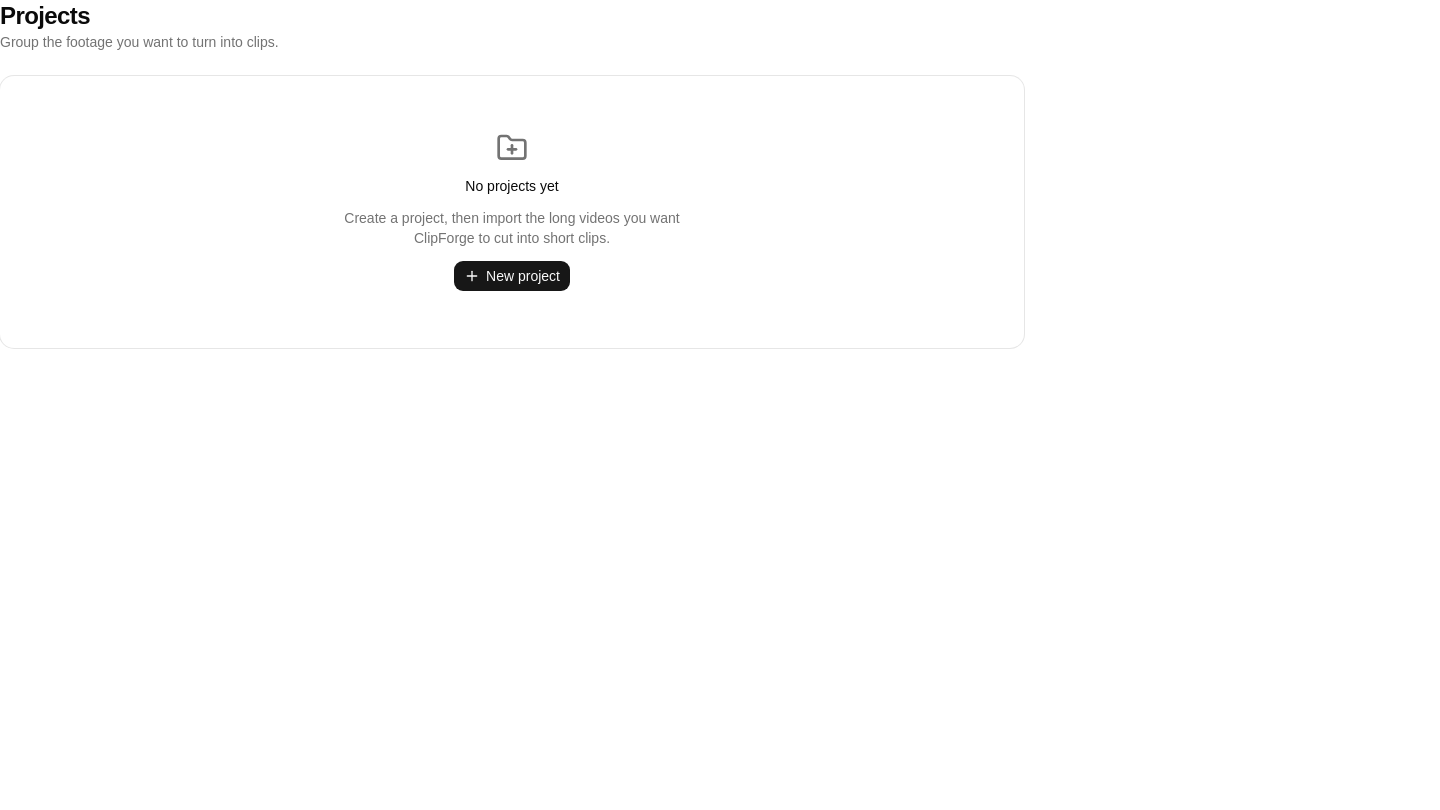
it: ProjectList › keeps the dialog open and shows the server's reason when creation fails
Click the button "New project" at (512,276), box 453,260 -> 571,292
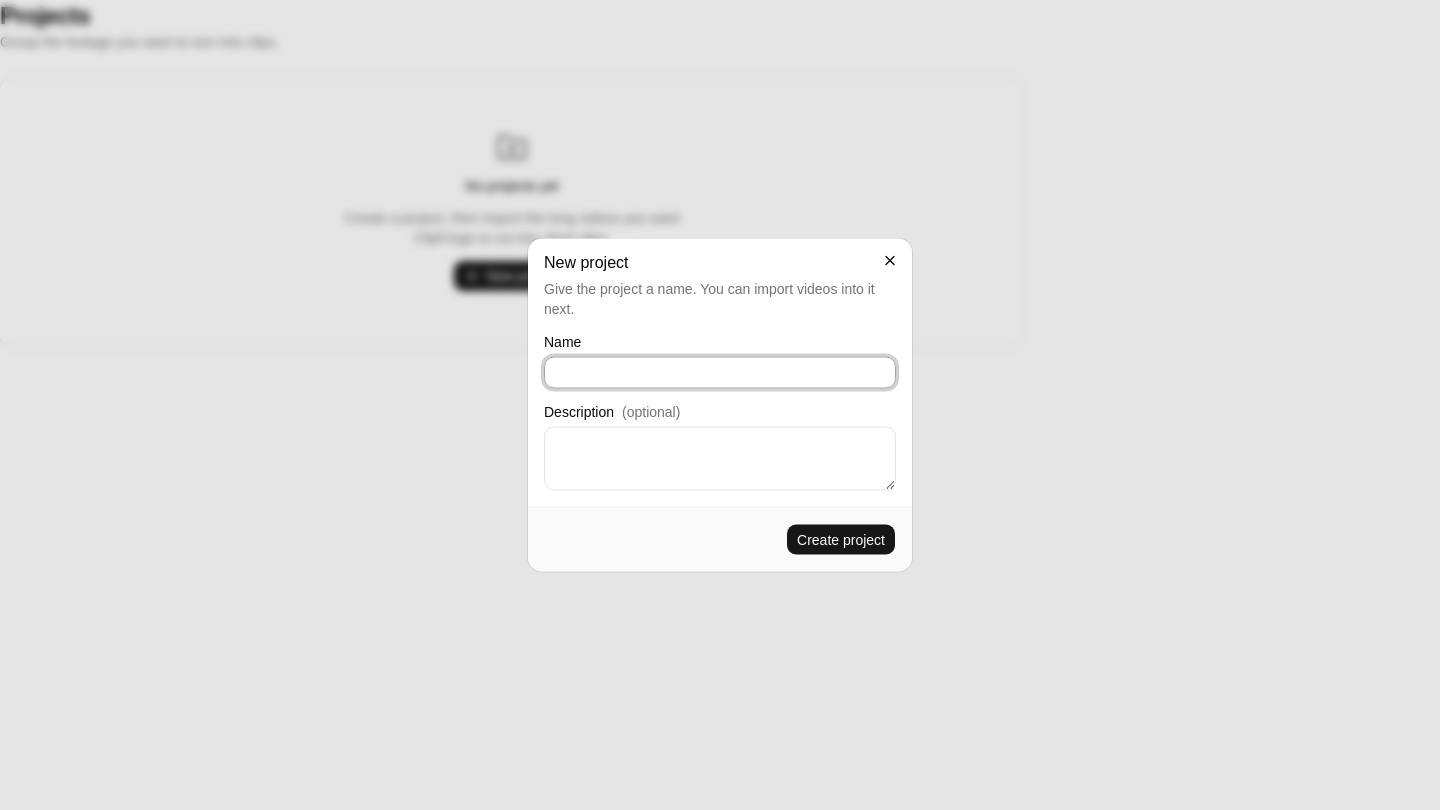
Type "ok" into the field labelled "Name" at (720,372), box 544,356 -> 896,388
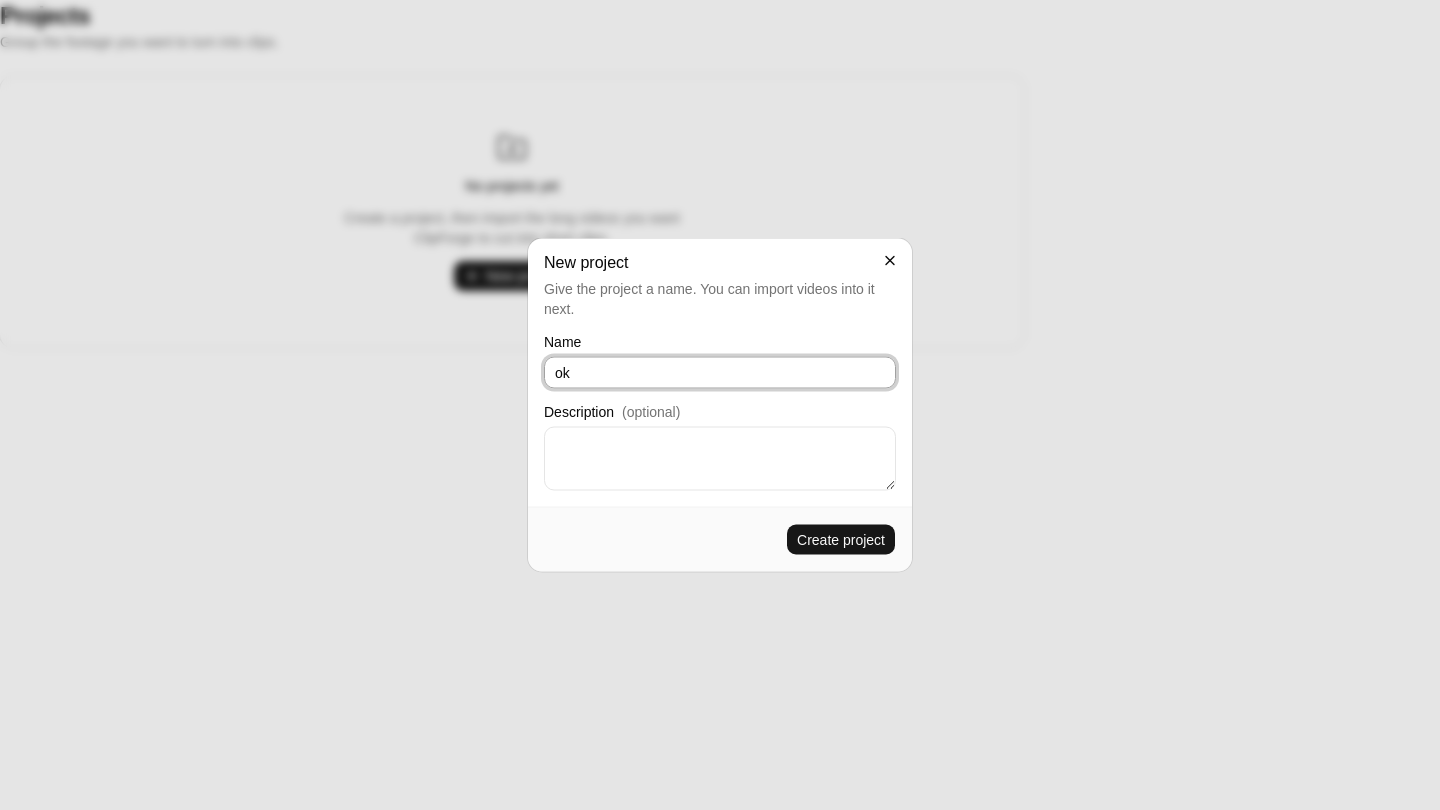
Click the button "Create project" at (841,540), box 786,524 -> 896,556
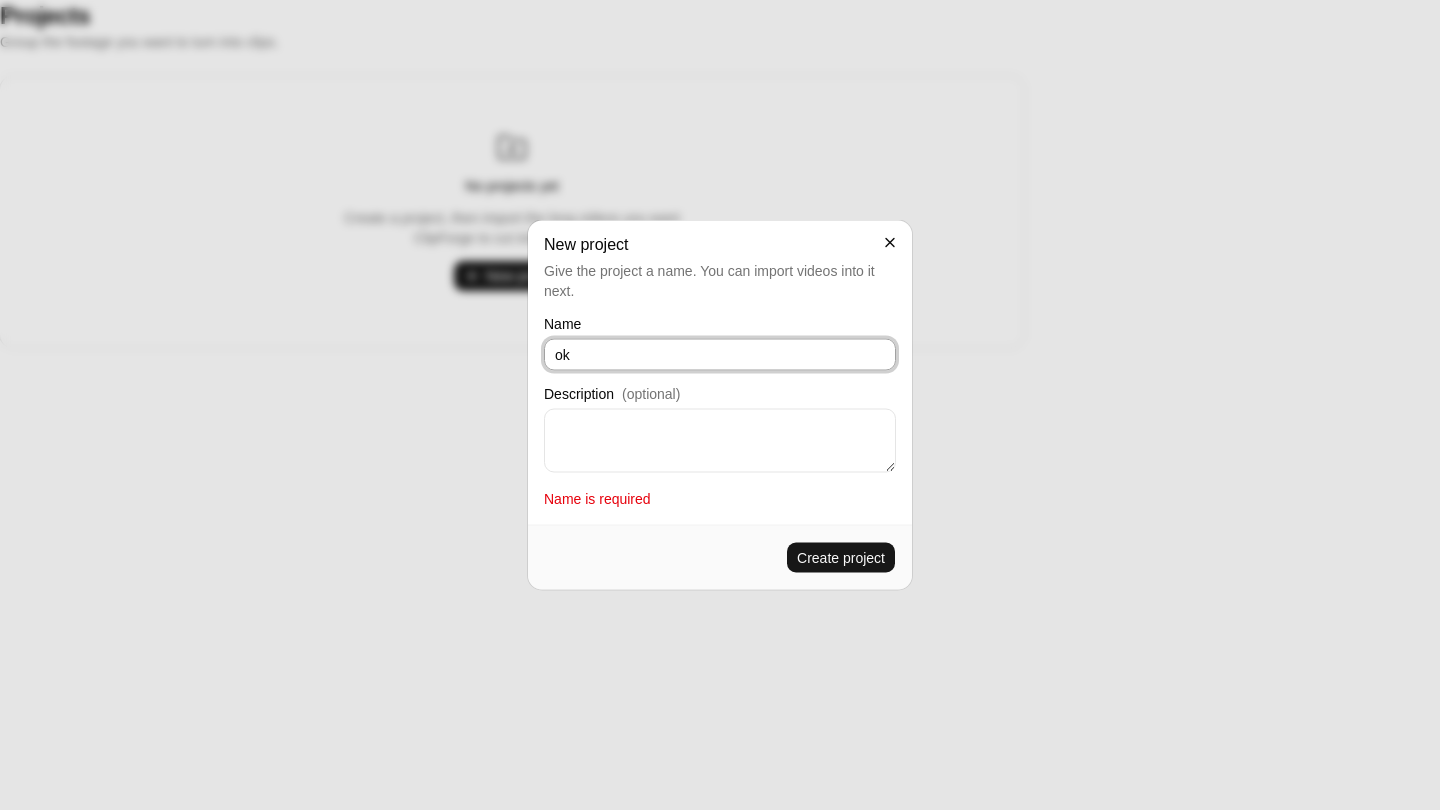
Now the dialog is shown, box 528,220 -> 912,590
Now the message reads "Name is required", box 544,490 -> 651,506
